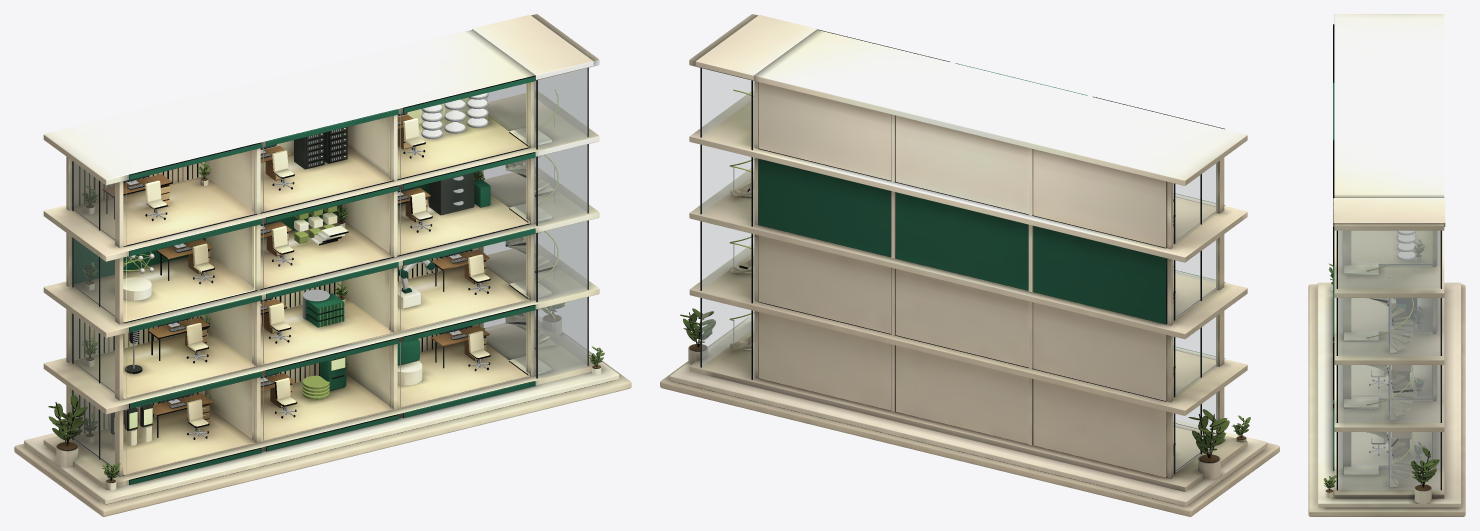
File: studio.glb
3 views of the same model, side by side, from view 1: azimuth 30°, elevation 25°; view 2: azimuth 150°, elevation 25°; view 3: azimuth 270°, elevation 25° (orthographic). The views are drawn at different scales.
Visible parts, largest first — view 1: Baked architectural daylight, ('Clear architectural glass', -1, ''); view 2: Baked architectural daylight, ('Clear architectural glass', -1, ''); view 3: Baked architectural daylight, ('Clear architectural glass', -1, ''), ('Brushed aluminium', -1, ''), ('Lime anodised aluminium', -1, ''), ('Lime status lights', 2, 'Redis').
Part boxes in pixels (x1,y1,x2,y2): Baked architectural daylight: (14, 14, 631, 516); ('Clear architectural glass', -1, ''): (70, 68, 588, 466); Baked architectural daylight: (660, 14, 1279, 516); ('Clear architectural glass', -1, ''): (700, 68, 1217, 473); Baked architectural daylight: (1308, 14, 1465, 516); ('Clear architectural glass', -1, ''): (1338, 230, 1442, 489); ('Brushed aluminium', -1, ''): (1370, 272, 1409, 486); ('Lime anodised aluminium', -1, ''): (1366, 264, 1413, 465); ('Lime status lights', 2, 'Redis'): (1398, 231, 1414, 257).
Bounding box in the file's own units: 17.81 × 10.39 × 5.2.
Materials: 9 (1 with a texture image).
